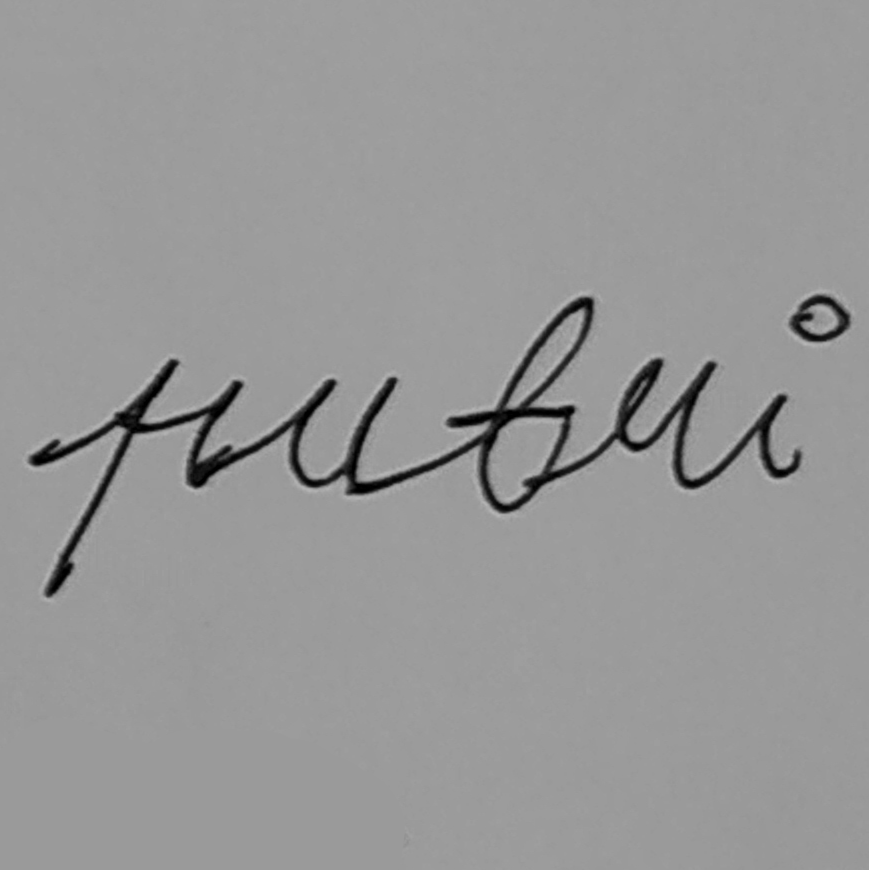i: (748, 288, 856, 482)
p: (24, 355, 247, 601)
r: (604, 353, 719, 495)
t: (442, 294, 598, 518)
u: (283, 370, 401, 498)
